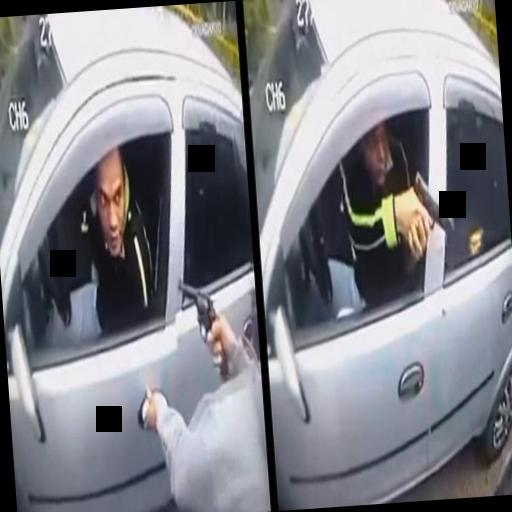Handgun: (176, 274, 228, 382), (402, 164, 456, 258)
